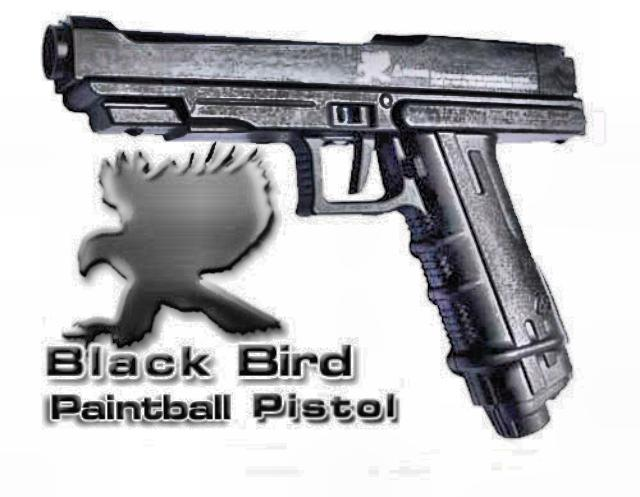pistol: (40, 12, 586, 439)
